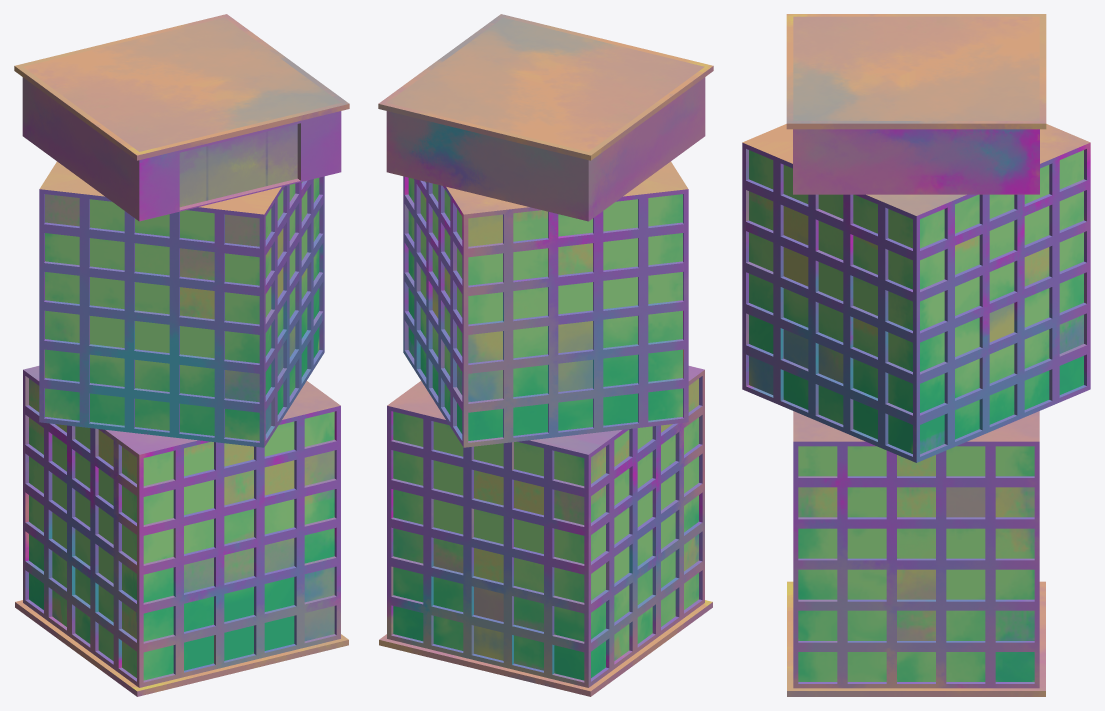
File: SP_ARCH_HighRiseBuilding_v01.fbx
3 views of the same model, side by side, from view 1: azimuth 30°, elevation 25°; view 2: azimuth 150°, elevation 25°; view 3: azimuth 270°, elevation 25° (orthographic). The views are drawn at different scales.
Parts seen in each view (by area): view 1: m_buildingSuperposed; view 2: m_buildingSuperposed; view 3: m_buildingSuperposed.
Part boxes in pixels (left/top/right/bottom): m_buildingSuperposed: left=14, top=14, right=349, bottom=696; m_buildingSuperposed: left=378, top=14, right=713, bottom=696; m_buildingSuperposed: left=742, top=14, right=1090, bottom=696.
Size of the model in its own units: 1105 by 2006 by 1105.
1 material, 1 textured.
